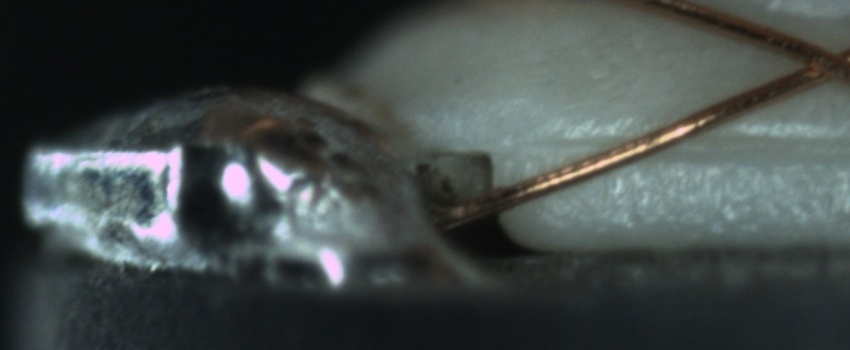CL: (776, 32, 849, 91)
DL: (533, 112, 848, 176)
